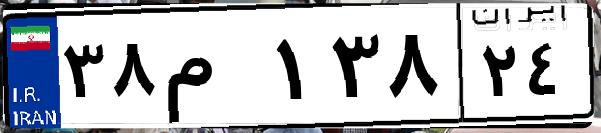1: (270, 28, 330, 110)
2: (475, 38, 525, 113)
3: (330, 28, 385, 110), (57, 26, 110, 100)
4: (525, 38, 570, 115)
8: (385, 28, 445, 110), (110, 28, 158, 98)
م: (158, 20, 270, 120)
